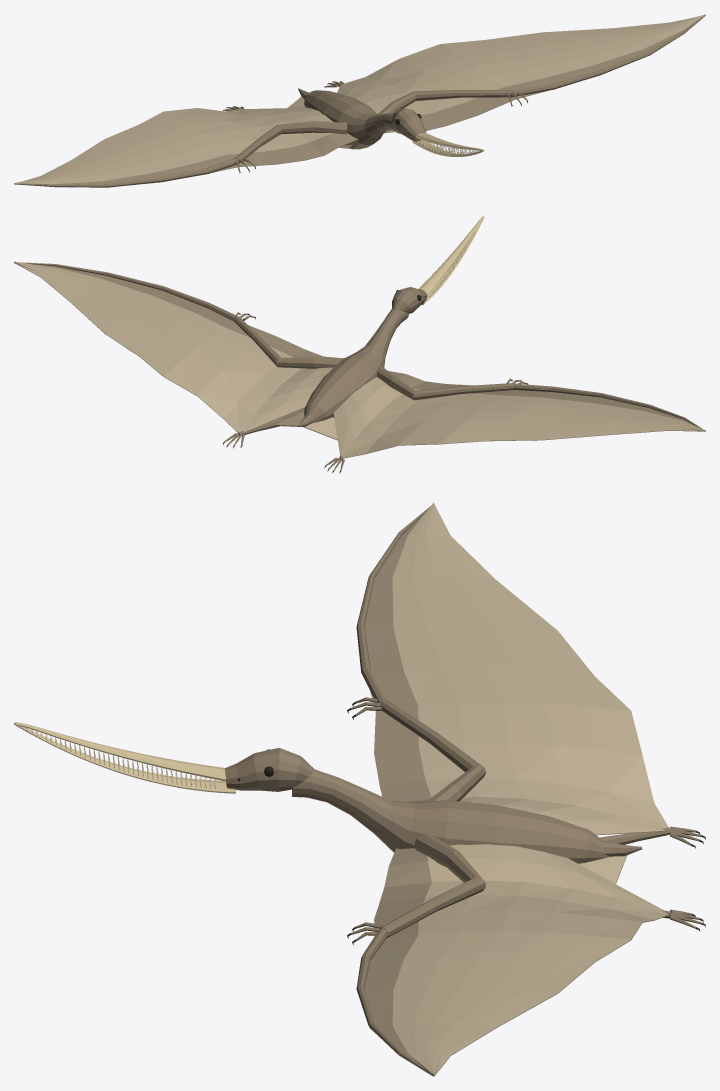
The picture shows the model from 3 angles, top to bottom: view 1: azimuth 30°, elevation 25°; view 2: azimuth 150°, elevation 25°; view 3: azimuth 270°, elevation 25°; orthographic projection. The views are drawn at different scales.
Parts seen in each view (by area): view 1: Paired_Continuous_Wing_Membranes, Forelimbs_And_Single_Wing_Digits, Torso_Neck_ShortTail, Slender_Cranium, Recurved_Upper_And_Lower_Jaws, Lower_Jaw_Filter_Comb_40_Per_Side; view 2: Paired_Continuous_Wing_Membranes, Forelimbs_And_Single_Wing_Digits, Torso_Neck_ShortTail, Recurved_Upper_And_Lower_Jaws, Slender_Cranium, Hindlimbs_And_Four_Toed_Feet; view 3: Paired_Continuous_Wing_Membranes, Torso_Neck_ShortTail, Forelimbs_And_Single_Wing_Digits, Recurved_Upper_And_Lower_Jaws, Slender_Cranium, Hindlimbs_And_Four_Toed_Feet.
Part boxes in pixels (x1=…): Paired_Continuous_Wing_Membranes: x1=14, y1=14, x2=705, y2=187; Forelimbs_And_Single_Wing_Digits: x1=15, y1=15, x2=705, y2=187; Torso_Neck_ShortTail: x1=298, y1=88, x2=400, y2=149; Slender_Cranium: x1=392, y1=108, x2=426, y2=141; Recurved_Upper_And_Lower_Jaws: x1=412, y1=132, x2=484, y2=156; Lower_Jaw_Filter_Comb_40_Per_Side: x1=419, y1=140, x2=478, y2=155; Paired_Continuous_Wing_Membranes: x1=14, y1=261, x2=705, y2=458; Forelimbs_And_Single_Wing_Digits: x1=21, y1=262, x2=702, y2=428; Torso_Neck_ShortTail: x1=298, y1=308, x2=408, y2=426; Recurved_Upper_And_Lower_Jaws: x1=418, y1=216, x2=484, y2=304; Slender_Cranium: x1=392, y1=287, x2=427, y2=313; Hindlimbs_And_Four_Toed_Feet: x1=224, y1=407, x2=344, y2=470; Paired_Continuous_Wing_Membranes: x1=364, y1=502, x2=669, y2=1076; Torso_Neck_ShortTail: x1=292, y1=769, x2=642, y2=863; Forelimbs_And_Single_Wing_Digits: x1=350, y1=506, x2=485, y2=1075; Recurved_Upper_And_Lower_Jaws: x1=14, y1=722, x2=235, y2=793; Slender_Cranium: x1=225, y1=747, x2=314, y2=791; Hindlimbs_And_Four_Toed_Feet: x1=599, y1=826, x2=701, y2=928.
Bounding box in the file's own units: 2.4 × 0.3156 × 1.23.
